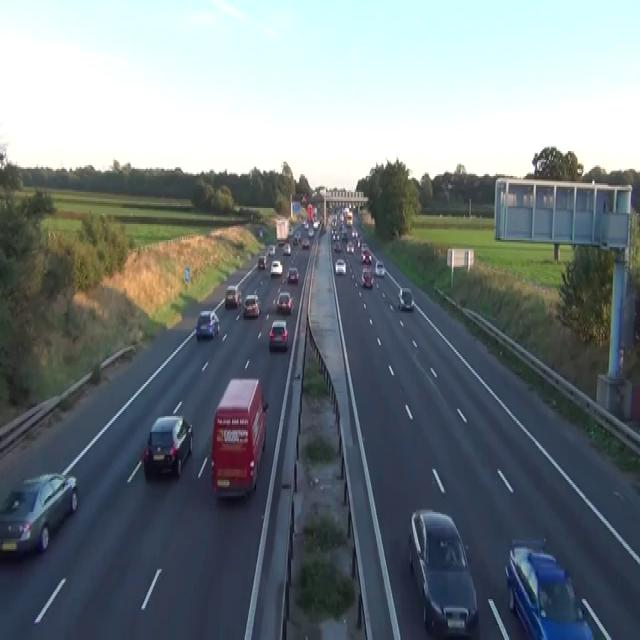Car: (504, 537, 595, 638), (408, 508, 478, 636), (0, 471, 78, 558), (143, 414, 193, 478), (195, 310, 219, 340), (269, 318, 288, 350), (242, 294, 260, 318), (397, 286, 414, 310), (224, 284, 241, 308), (276, 290, 293, 313), (361, 267, 373, 288), (287, 265, 299, 283), (334, 258, 346, 274), (270, 260, 282, 276), (374, 260, 385, 276), (257, 254, 267, 268), (361, 251, 371, 263), (282, 242, 291, 254), (301, 238, 310, 249), (346, 240, 354, 252), (293, 231, 300, 244), (333, 240, 341, 251), (331, 229, 339, 240), (268, 244, 275, 256), (340, 228, 347, 240), (312, 219, 320, 229), (277, 237, 285, 246), (300, 194, 307, 204), (307, 226, 314, 236), (351, 228, 358, 238), (302, 220, 308, 230), (356, 237, 362, 247), (361, 242, 368, 250), (288, 226, 293, 236), (321, 224, 326, 233), (259, 228, 263, 236)
Truck: (210, 377, 268, 499), (275, 218, 289, 244)
